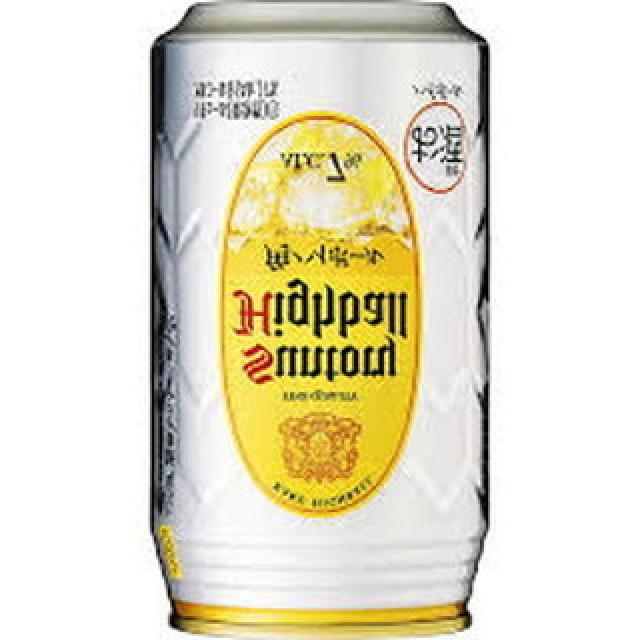can: (150, 2, 492, 637)
